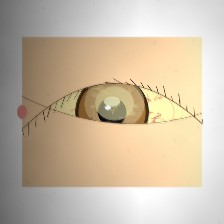corneal_ulcer: (83, 78, 146, 129)
